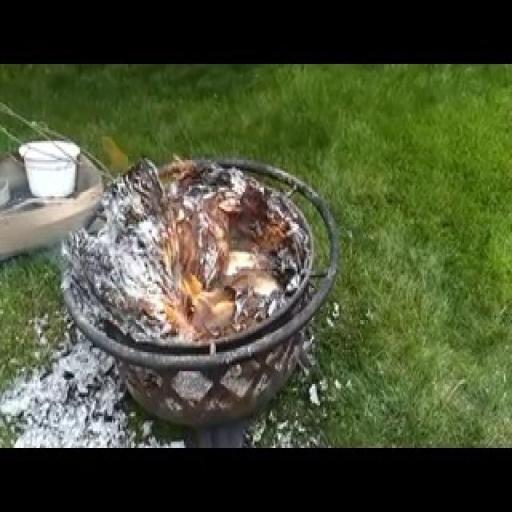smoke: (146, 232, 251, 354)
